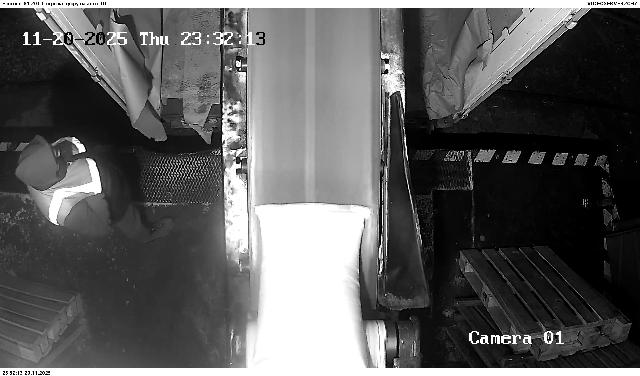bag: (254, 203, 371, 368)
